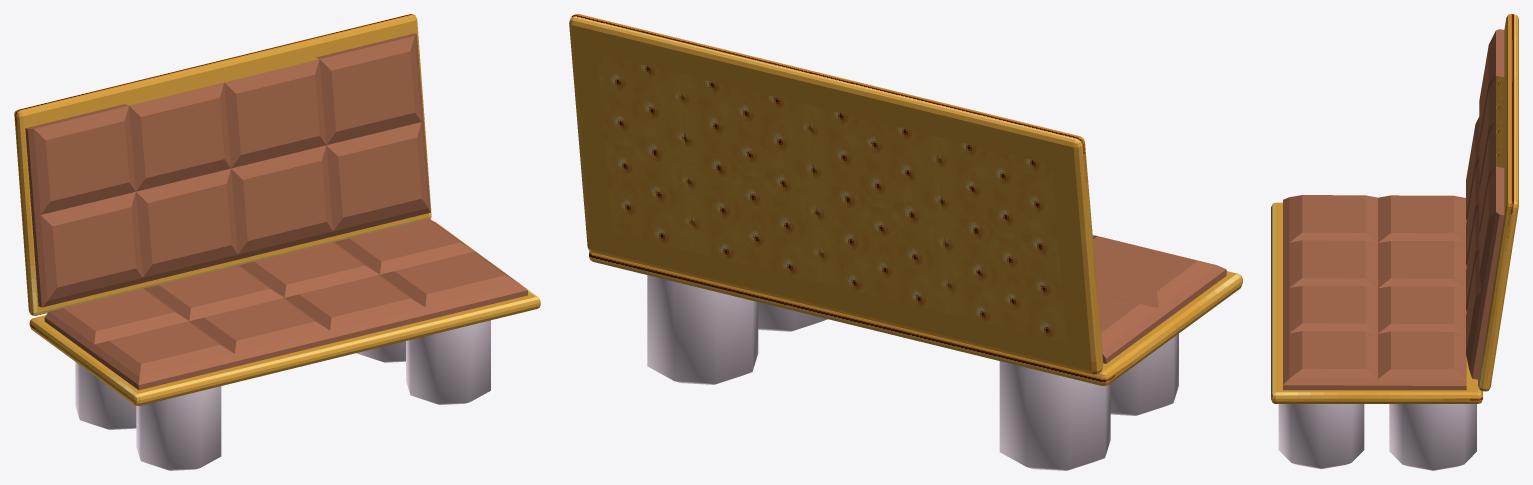
File: bench-smores.glb
The picture shows the model from 3 angles, left to right: view 1: azimuth 30°, elevation 25°; view 2: azimuth 150°, elevation 25°; view 3: azimuth 270°, elevation 25°; orthographic projection. The views are drawn at different scales.
Parts seen in each view (by area): view 1: bench-smores; view 2: bench-smores; view 3: bench-smores.
Part boxes in pixels (x1,y1,x2,y2): bench-smores: (14,14,540,470); bench-smores: (569,14,1242,470); bench-smores: (1271,14,1518,470).
Size of what is drawn, in the model's own units: 2.6 by 1.8 by 1.4.
3 materials, 1 textured.
